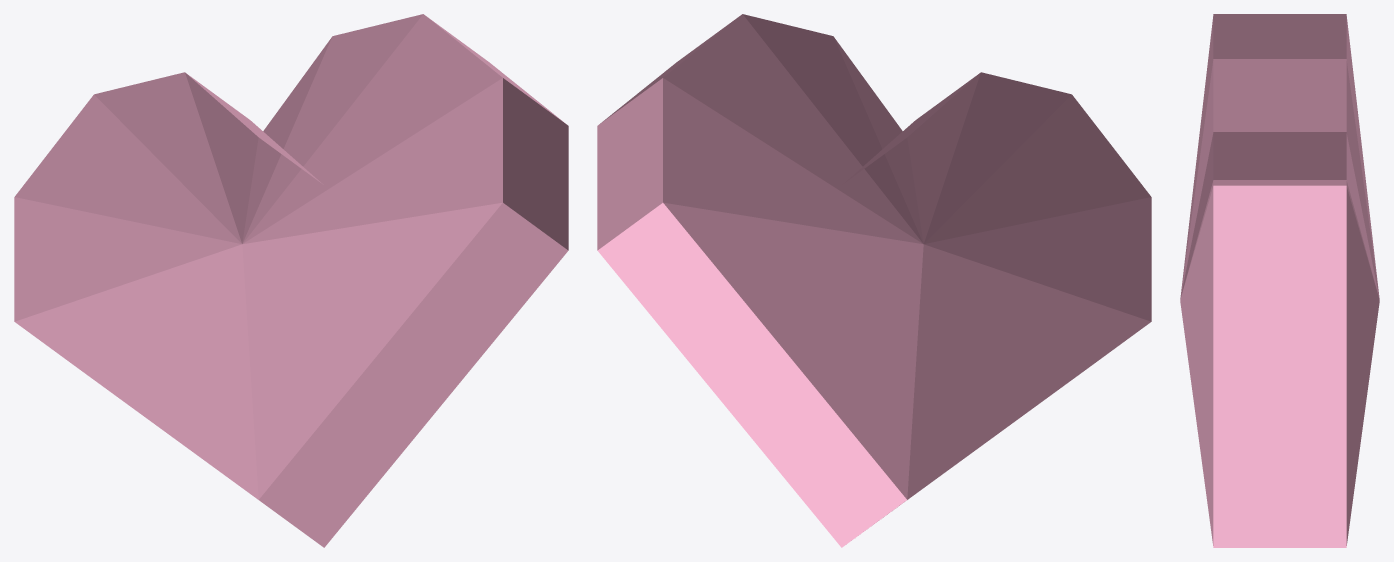
Rendered from 32_extra_life_heart.glb.
The picture shows the model from 3 angles, left to right: view 1: azimuth 30°, elevation 25°; view 2: azimuth 150°, elevation 25°; view 3: azimuth 270°, elevation 25°; orthographic projection.
Visible parts, largest first — view 1: 32_extra_life_heart; view 2: 32_extra_life_heart; view 3: 32_extra_life_heart.
Part boxes in pixels (x1,y1,x2,y2): 32_extra_life_heart: (14, 14, 568, 547); 32_extra_life_heart: (597, 14, 1151, 547); 32_extra_life_heart: (1180, 14, 1379, 547).
Bounding box in the file's own units: 0.86 × 0.75 × 0.3.
